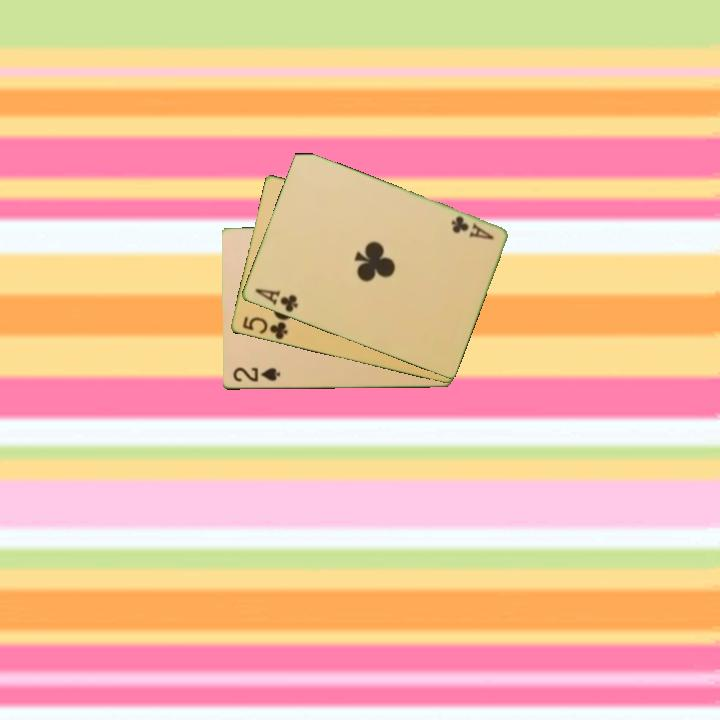2s: (229, 364, 283, 385)
5c: (239, 313, 290, 342)
Ac: (447, 212, 496, 243), (251, 285, 301, 315)
